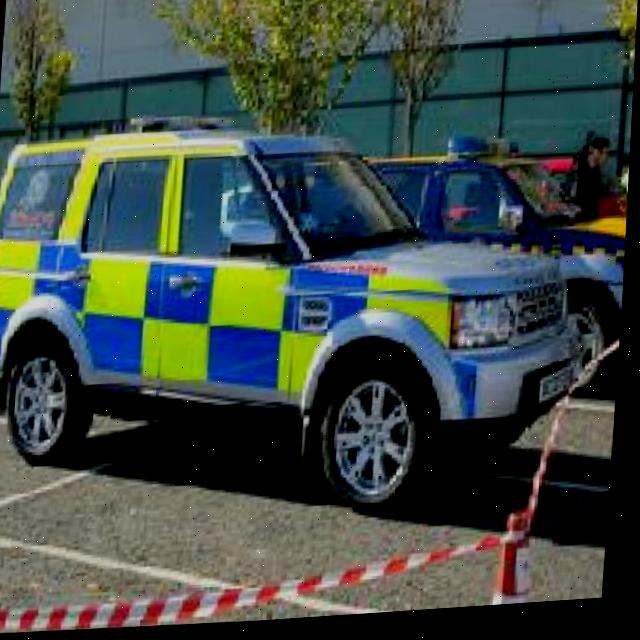emergency: (0, 90, 606, 544), (234, 126, 633, 425)
